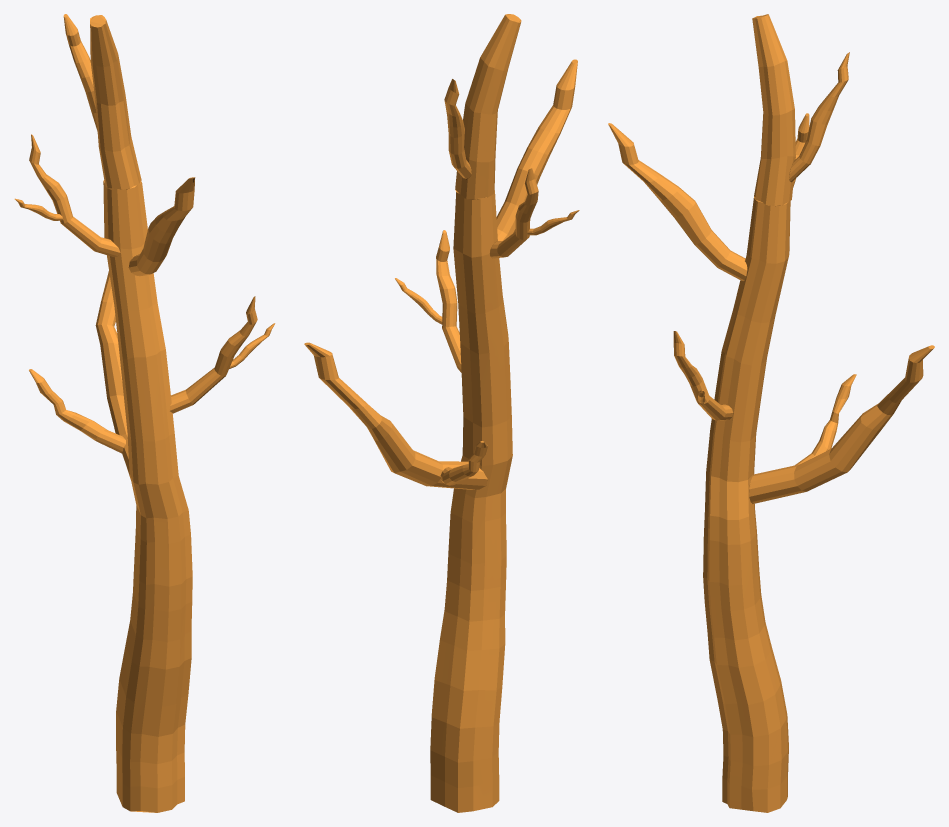
The model's file is tree.gltf.
3 views of the same model, side by side, from view 1: azimuth 30°, elevation 25°; view 2: azimuth 150°, elevation 25°; view 3: azimuth 270°, elevation 25° (orthographic). The views are drawn at different scales.
Parts seen in each view (by area): view 1: Cylinder.006; view 2: Cylinder.006; view 3: Cylinder.006.
Boxes of the visible parts, x1=… form: Cylinder.006: x1=14, y1=14, x2=275, y2=812; Cylinder.006: x1=304, y1=14, x2=579, y2=812; Cylinder.006: x1=608, y1=14, x2=934, y2=812.
Size of what is drawn, in the model's own units: 51.15 by 175 by 67.58.
Materials: 1 (1 with a texture image).
